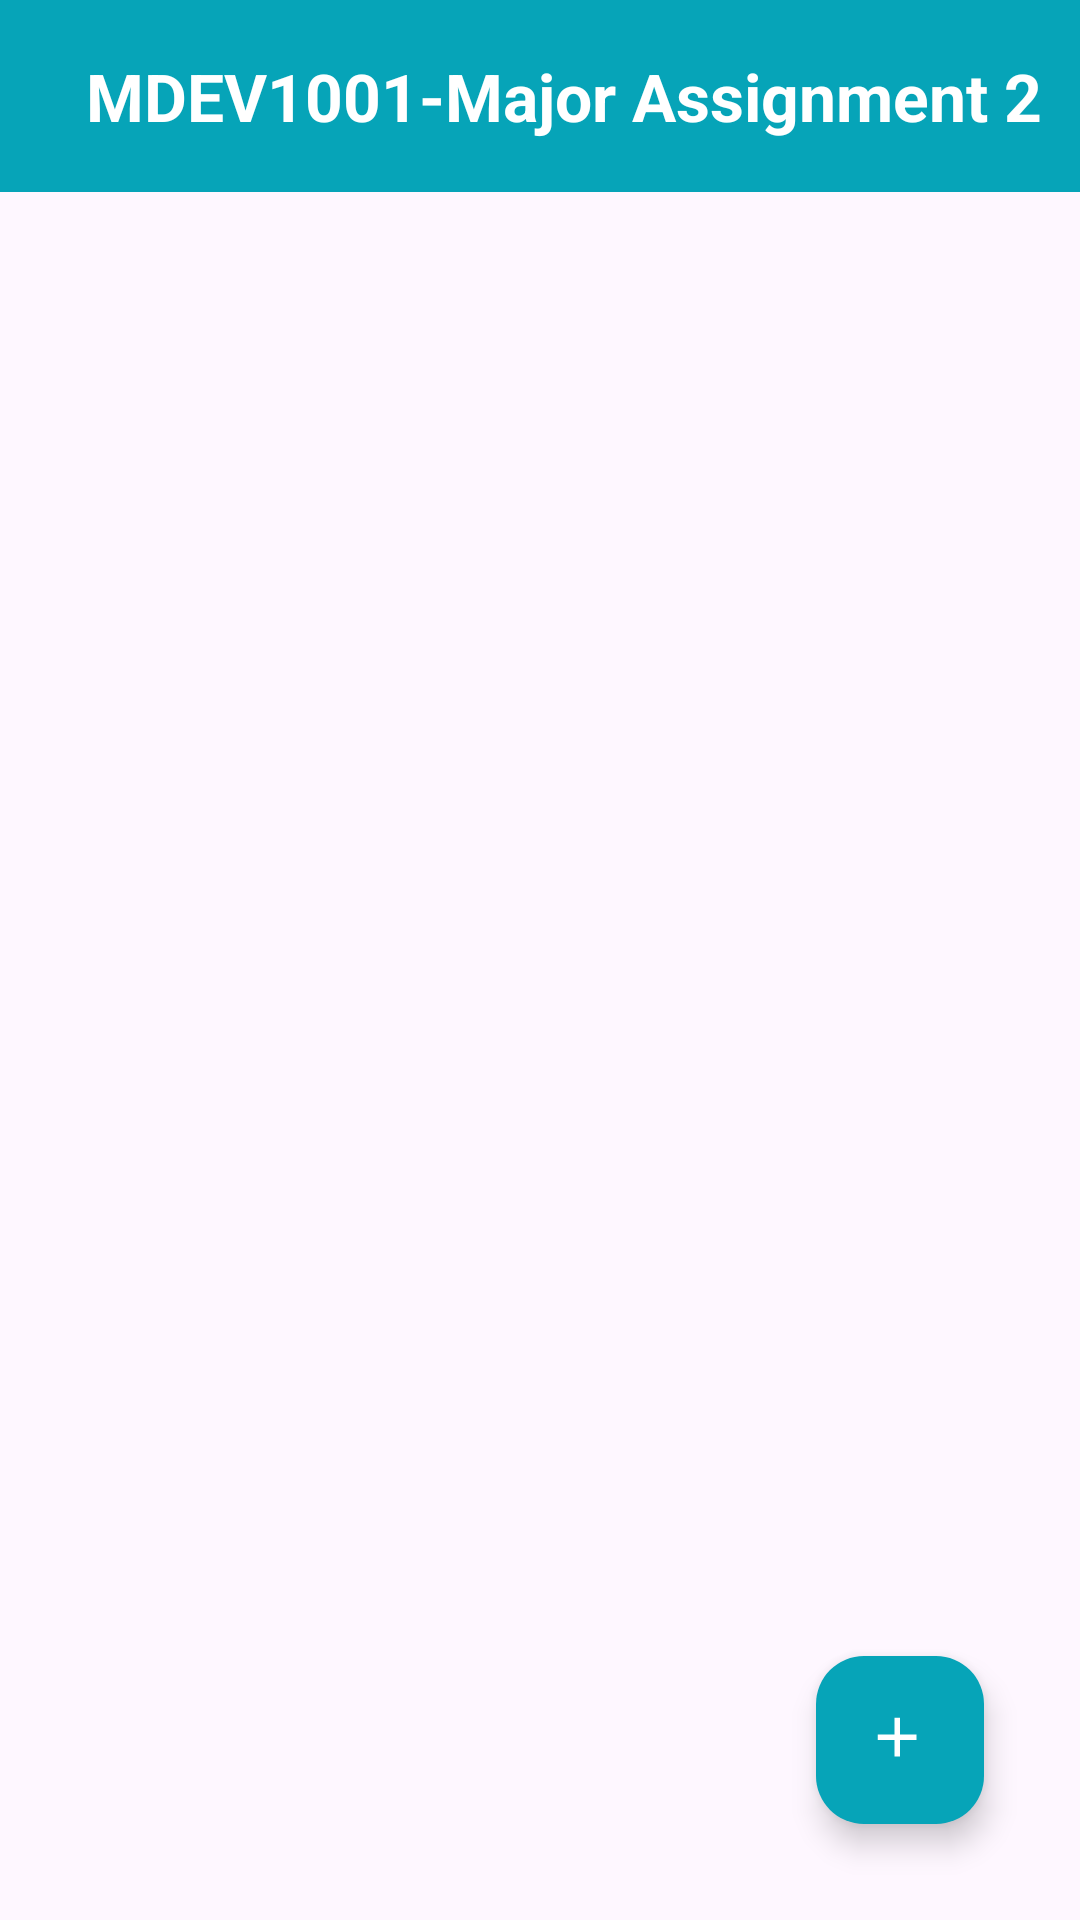

Icons on this 1080 × 1920 Android screen, each with its box as (x1, y1, x2, y2):
Add new movie: (816, 1656, 984, 1824)
